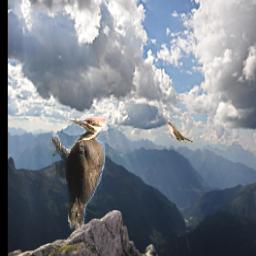Cuckoo: (166, 121, 195, 143)
Woodpecker: (52, 117, 109, 232)
